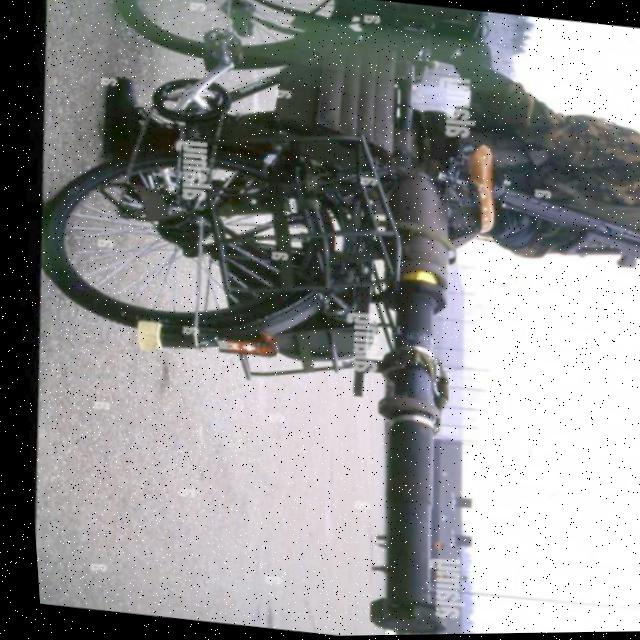rocket: (308, 173, 508, 637)
